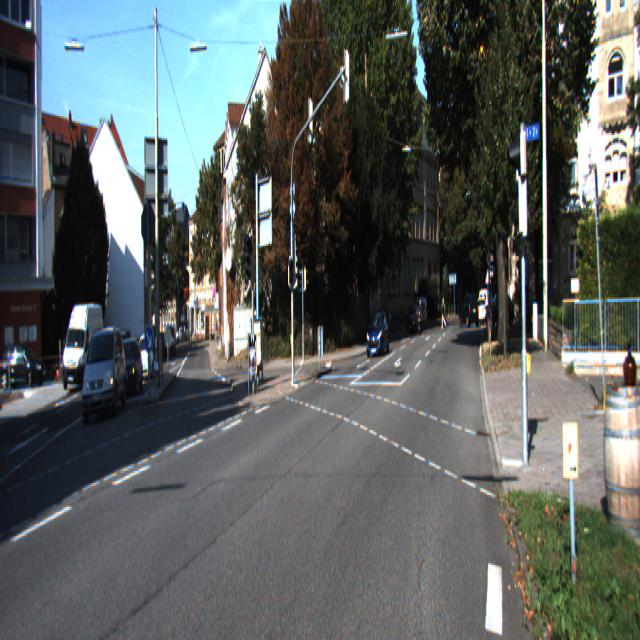Car: (82, 323, 129, 428), (63, 303, 105, 393), (110, 336, 144, 405), (366, 307, 390, 357), (417, 297, 424, 333)
